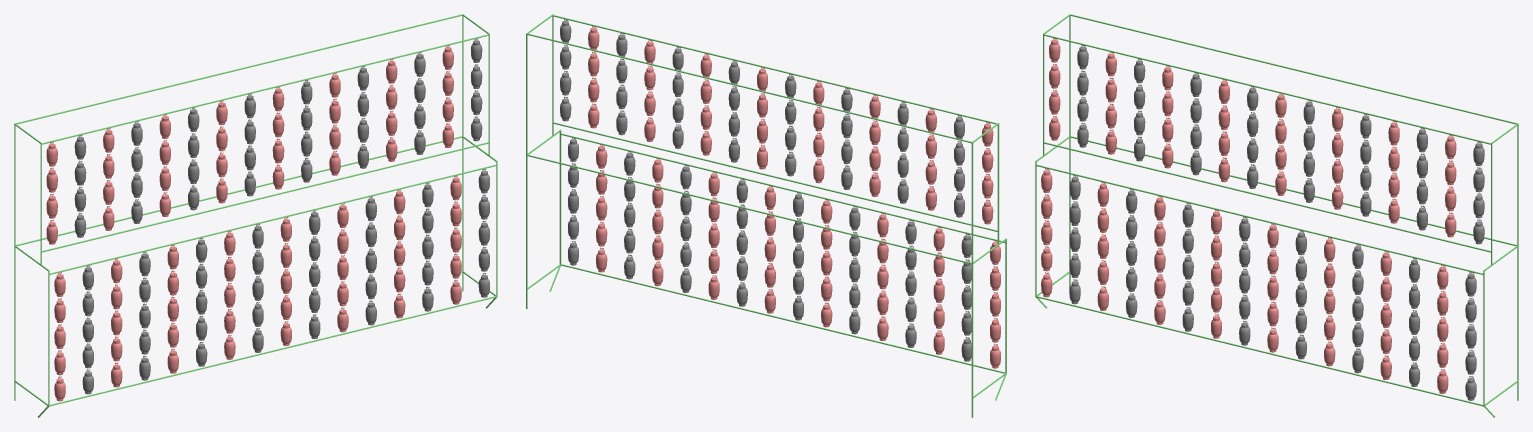
File: SM_ENV_LKNVLD_Event_HL_PaperLanternWall_A.gltf
3 renders of one model, left to right at view 1: azimuth 30°, elevation 25°; view 2: azimuth 150°, elevation 25°; view 3: azimuth 330°, elevation 25°, orthographic.
Visible parts, largest first — view 1: SM_ENV_LKNVLD_Event_HL_PaperLanternWall_A; view 2: SM_ENV_LKNVLD_Event_HL_PaperLanternWall_A; view 3: SM_ENV_LKNVLD_Event_HL_PaperLanternWall_A.
Boxes of the visible parts, bbox=[...] form: SM_ENV_LKNVLD_Event_HL_PaperLanternWall_A: bbox=[14, 14, 497, 417]; SM_ENV_LKNVLD_Event_HL_PaperLanternWall_A: bbox=[526, 14, 1006, 417]; SM_ENV_LKNVLD_Event_HL_PaperLanternWall_A: bbox=[1035, 14, 1518, 417].
Bounding box in the file's own units: 19.84 × 11.69 × 2.86.
